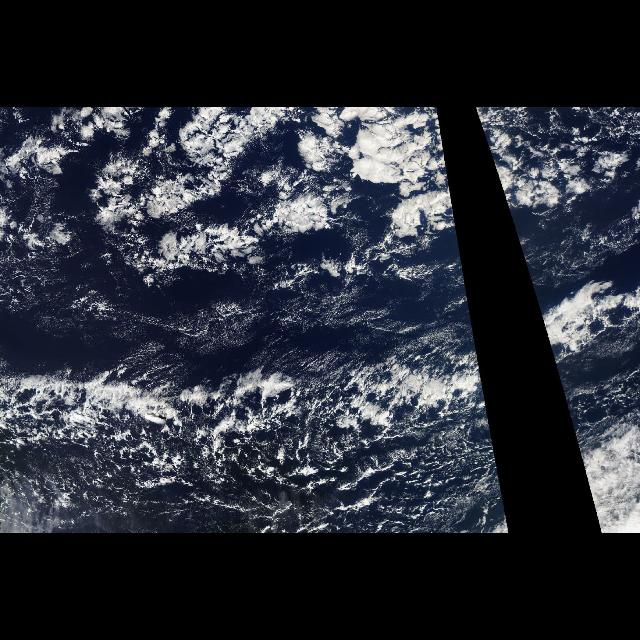Fish: (17, 313, 500, 477), (540, 313, 576, 442)
Flower: (8, 110, 458, 272), (474, 110, 616, 240)
Gravel: (10, 376, 506, 532)
Sugar: (1, 272, 467, 366)
